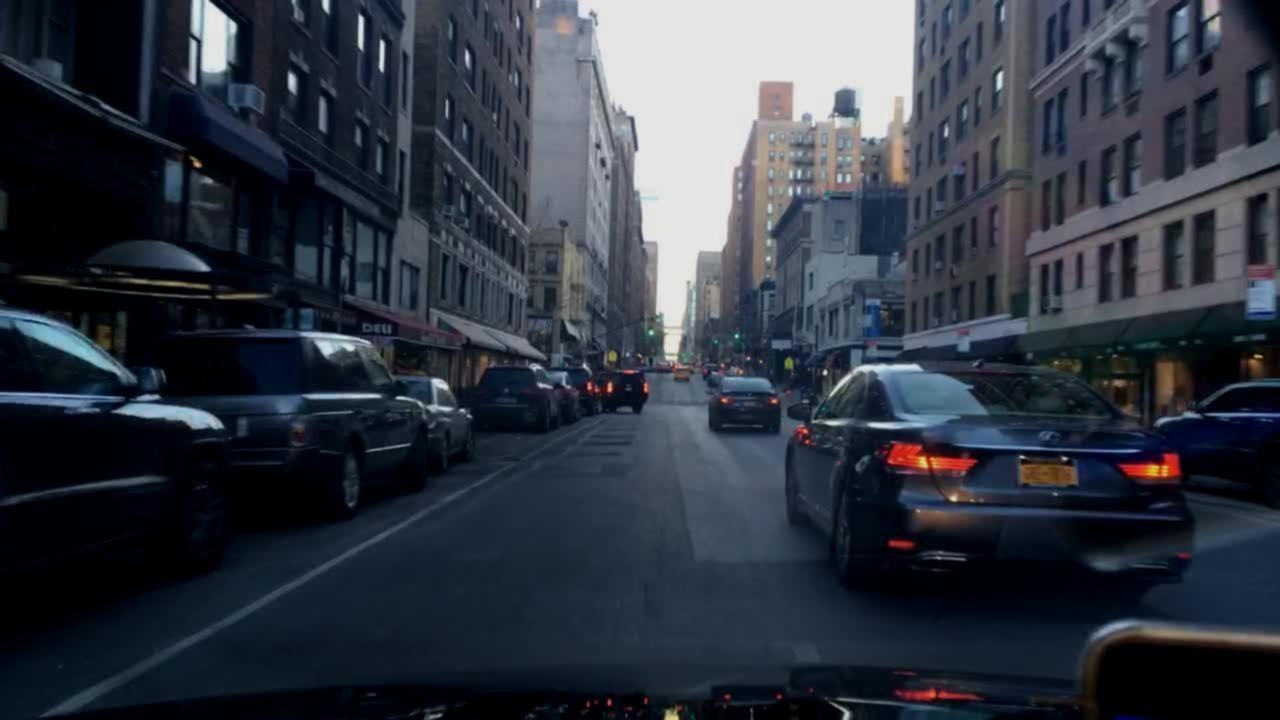lexus: (1035, 425, 1071, 453)
